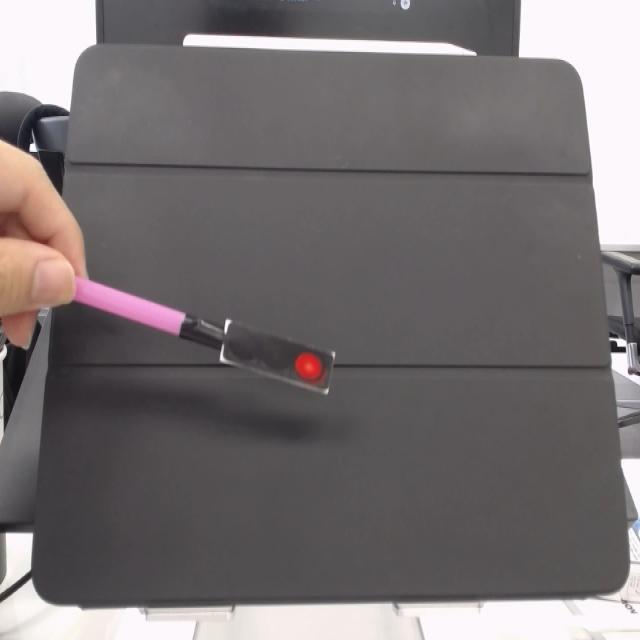traffic light: (216, 321, 335, 397)
